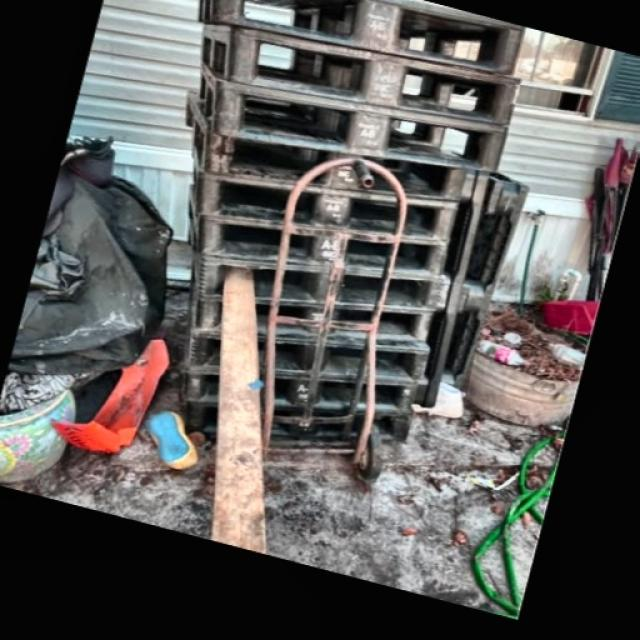non-igps: (190, 14, 527, 138), (194, 56, 516, 182), (180, 80, 472, 208), (186, 145, 464, 251), (190, 0, 533, 83), (179, 194, 455, 286), (405, 155, 497, 413), (439, 166, 535, 394), (195, 248, 460, 317), (185, 321, 435, 392), (172, 354, 425, 416), (187, 295, 439, 348), (175, 396, 418, 450)
